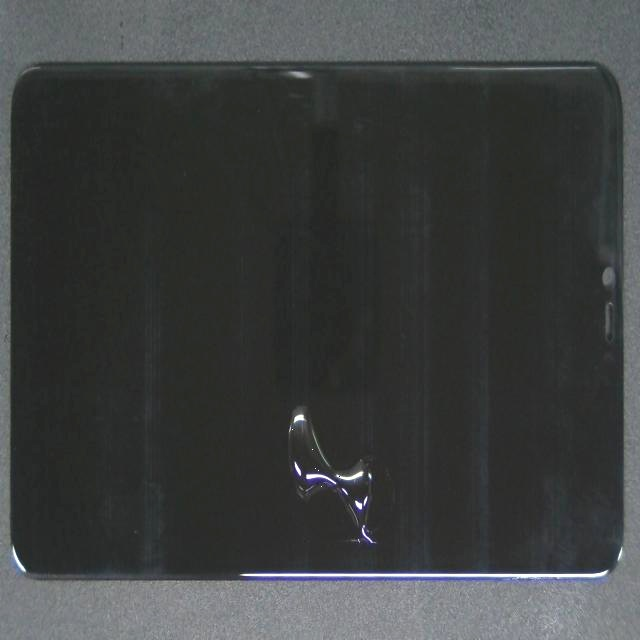oil: (208, 215, 548, 640)
